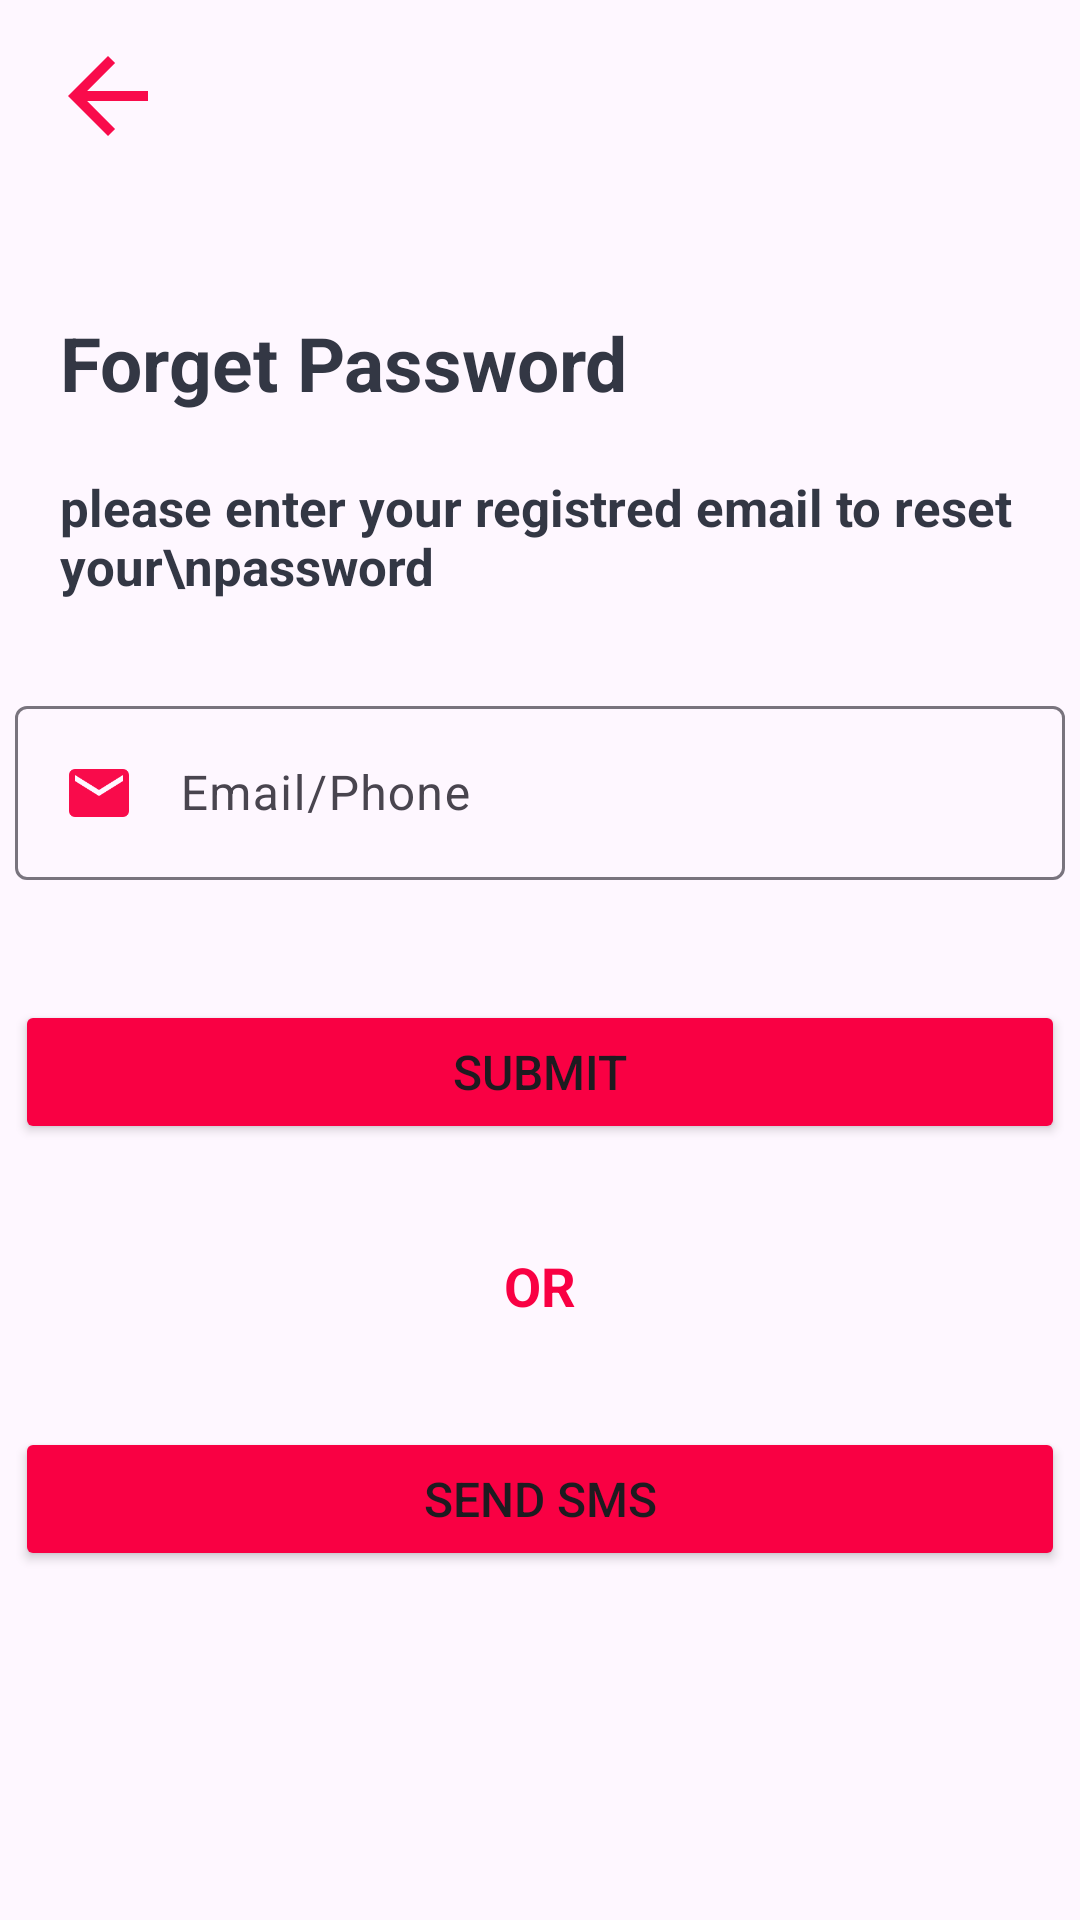

Icons on this 1080*1920 Android screen, each with its box as (x1, y1, x2, y2):
arrow back: (68, 56, 148, 136)
